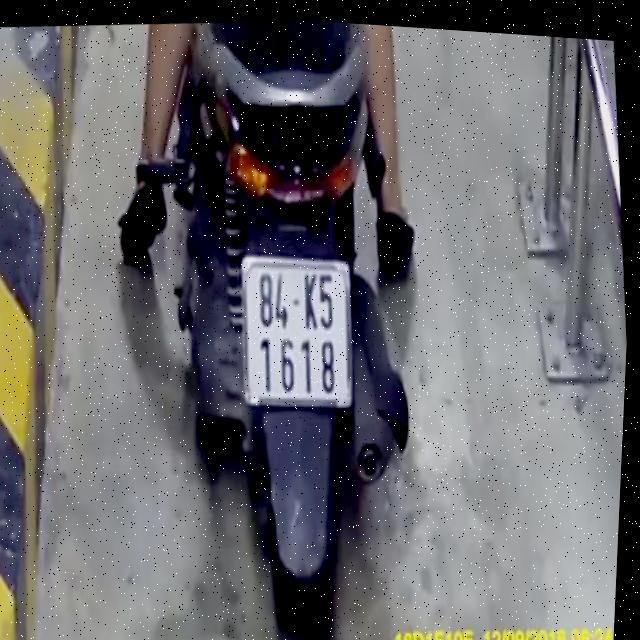motorcycle: (123, 10, 456, 640)
plate: (227, 243, 361, 422)
